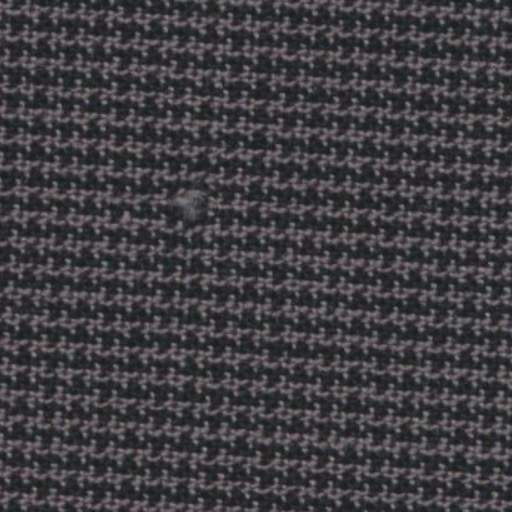PoDong: (153, 163, 225, 243)
